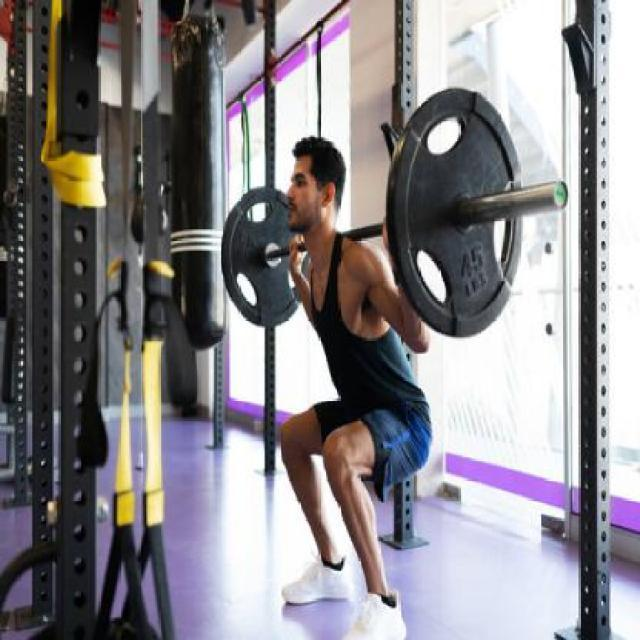barbell: (382, 77, 540, 348)
